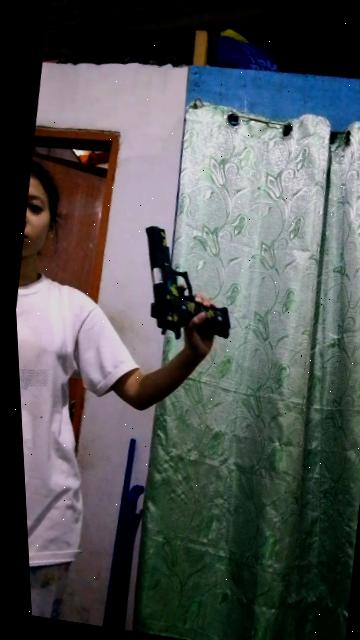pistol: (122, 218, 254, 356)
